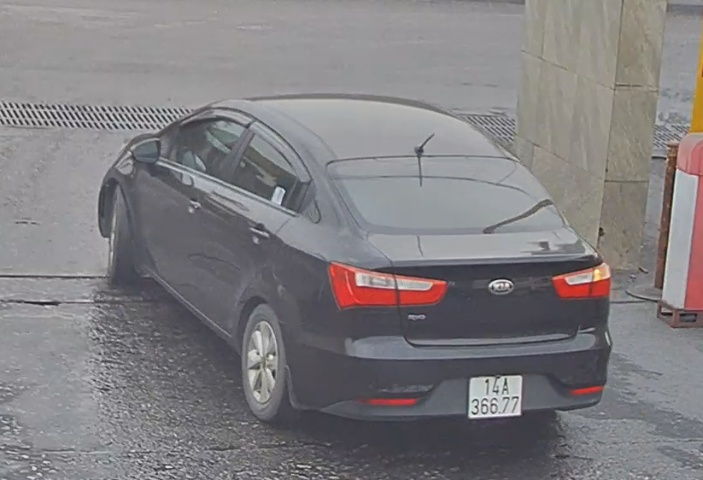vehicle plate: (466, 371, 527, 421)
